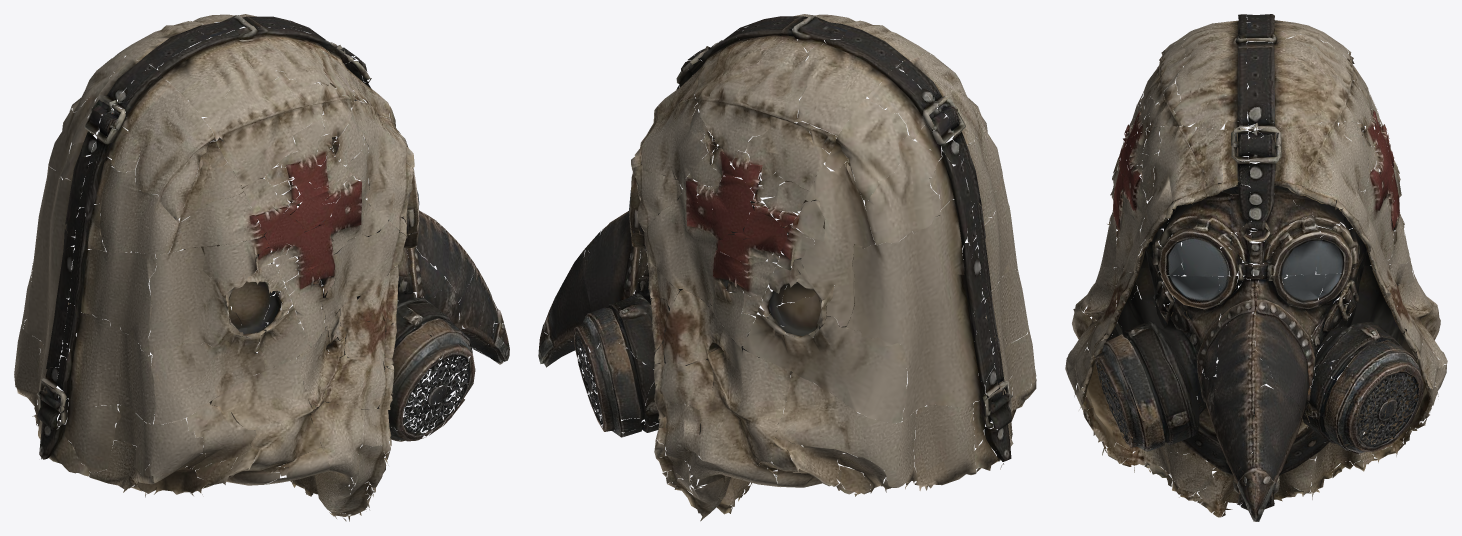
The model's file is a_ward_mask.glb.
3 views of the same model, side by side, from view 1: azimuth 30°, elevation 25°; view 2: azimuth 150°, elevation 25°; view 3: azimuth 270°, elevation 25° (orthographic). The views are drawn at different scales.
Parts seen in each view (by area): view 1: tripo_node_d6661f3f-70c5-4264-bc19-4c6a00129a35; view 2: tripo_node_d6661f3f-70c5-4264-bc19-4c6a00129a35; view 3: tripo_node_d6661f3f-70c5-4264-bc19-4c6a00129a35.
Part boxes in pixels (x1,y1,x2,y2): tripo_node_d6661f3f-70c5-4264-bc19-4c6a00129a35: (14, 14, 509, 521); tripo_node_d6661f3f-70c5-4264-bc19-4c6a00129a35: (538, 14, 1036, 521); tripo_node_d6661f3f-70c5-4264-bc19-4c6a00129a35: (1065, 14, 1447, 521).
Size of the model in its own units: 0.9784 by 0.9773 by 0.7573.
Materials: 1 (1 with a texture image).
